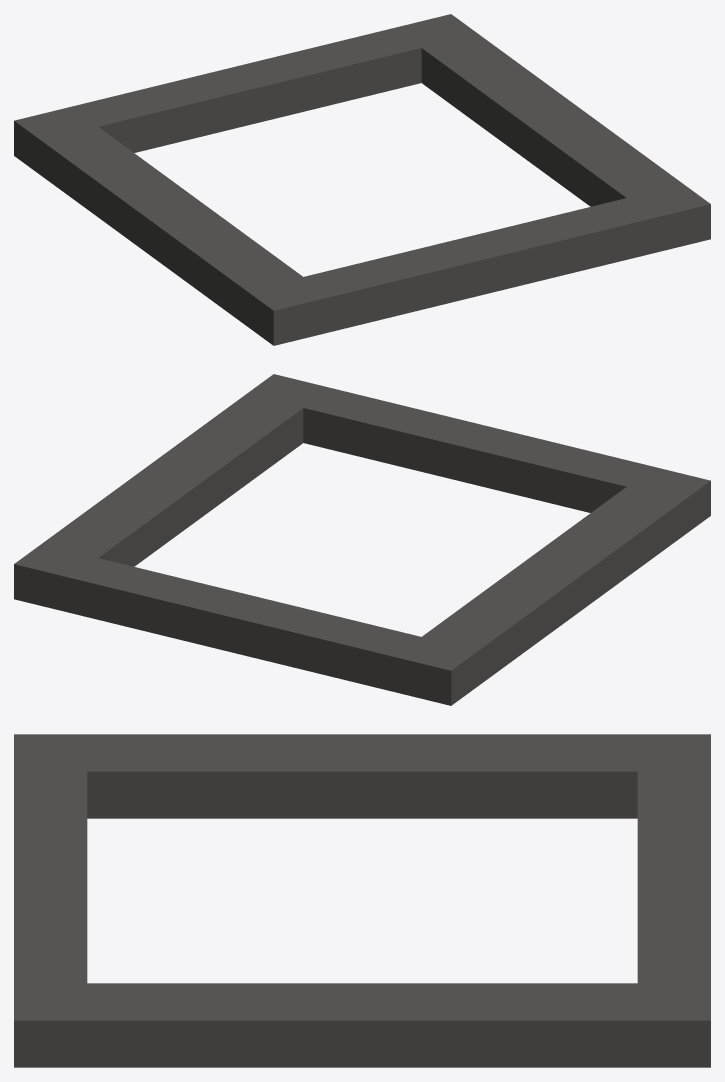
File: keep-wd02_148.obj
3 views of the same model, one above another, from view 1: azimuth 30°, elevation 25°; view 2: azimuth 150°, elevation 25°; view 3: azimuth 270°, elevation 25° (orthographic). The views are drawn at different scales.
Bounding box in the file's own units: 0.3906 × 0.03 × 0.402.
Materials: 1 (1 with a texture image).
